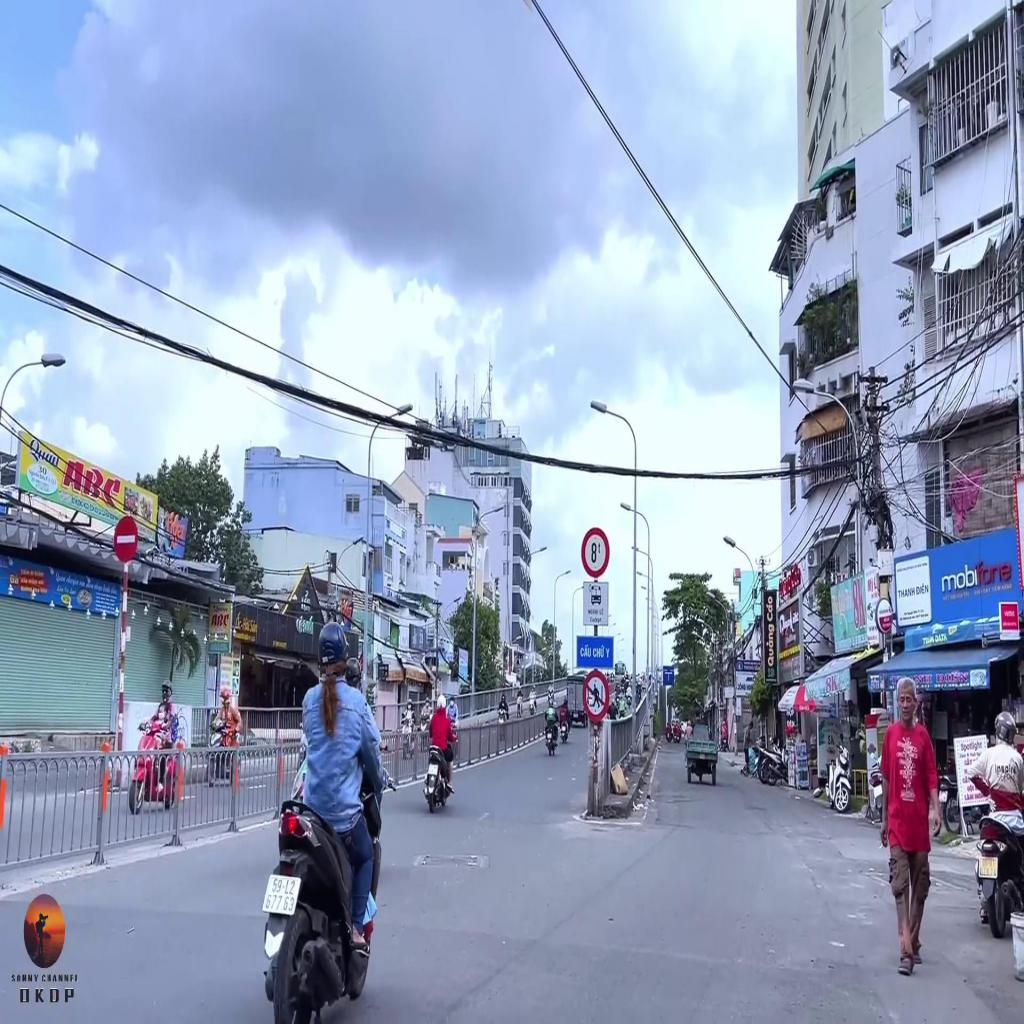cam_xe_di_nguoc_chieu: (114, 515, 138, 560)
khac: (581, 526, 610, 578), (582, 670, 608, 724), (576, 637, 613, 669), (584, 583, 608, 625)
